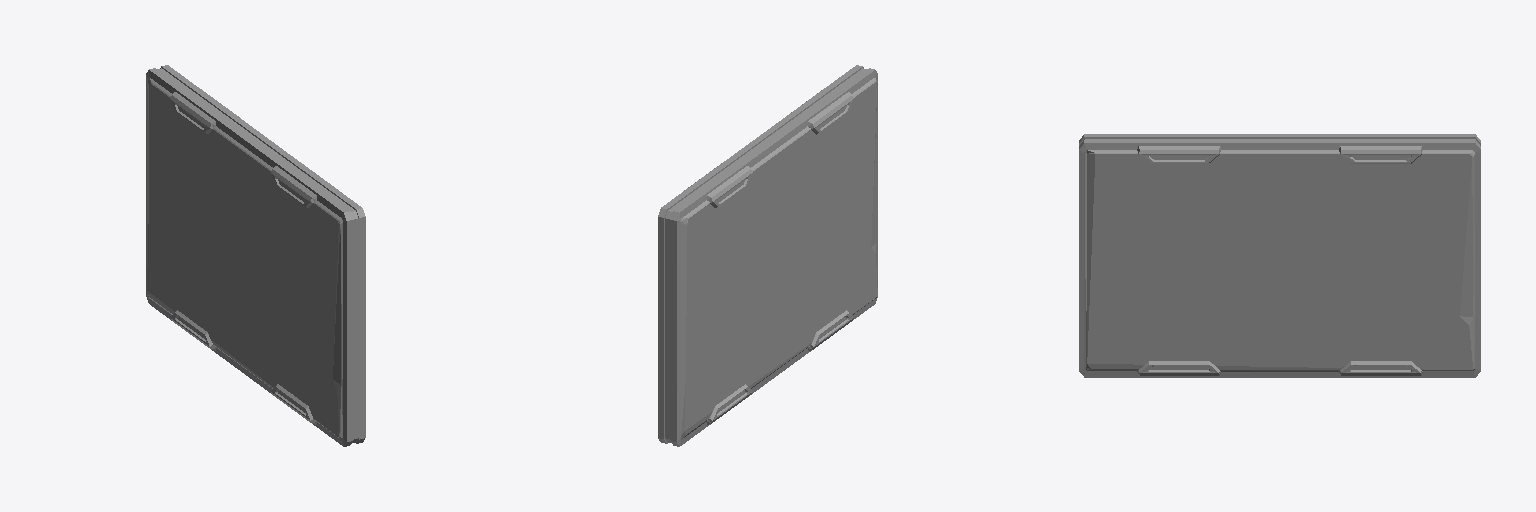
Rendered from wall_xl.obj.
The picture shows the model from 3 angles: view 1: azimuth 30°, elevation 25°; view 2: azimuth 150°, elevation 25°; view 3: azimuth 270°, elevation 25°; orthographic projection.
Parts seen in each view (by area): view 1: default-default.000_default-default.001; view 2: default-default.000_default-default.001; view 3: default-default.000_default-default.001.
Boxes of the visible parts, box(x1,y1,x2,y2) form: default-default.000_default-default.001: box(146, 65, 365, 446); default-default.000_default-default.001: box(658, 65, 877, 446); default-default.000_default-default.001: box(1079, 134, 1480, 377).
Bounding box in the file's own units: 0.3105 × 2.2 × 3.43.